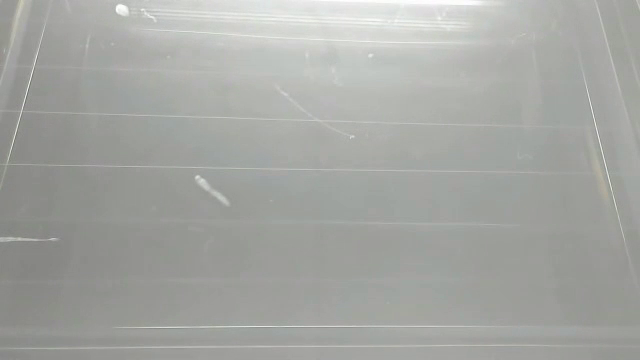alpha: (191, 172, 234, 210), (1, 232, 62, 245), (111, 2, 132, 18)
